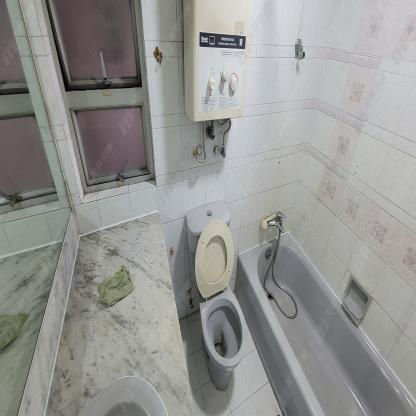Bathtub: (235, 230, 415, 416)
Toilet: (185, 201, 248, 391)
Water Heater: (181, 3, 253, 122)
